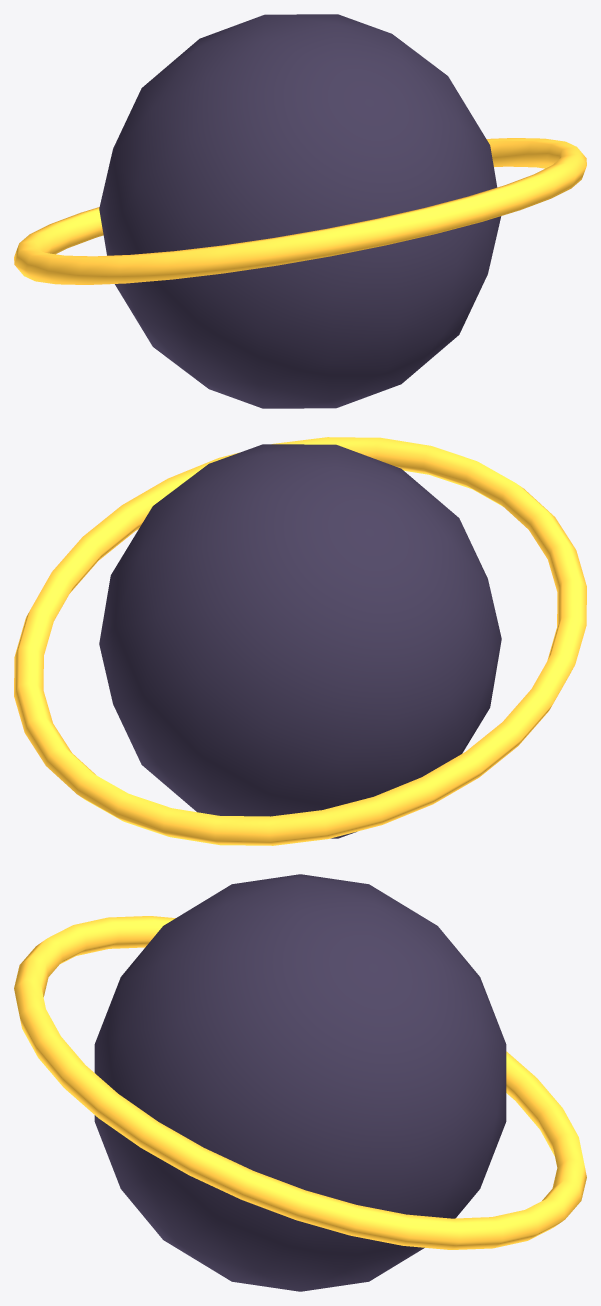
The model's file is orb-locked.glb.
3 renders of one model, top to bottom at view 1: azimuth 30°, elevation 25°; view 2: azimuth 150°, elevation 25°; view 3: azimuth 270°, elevation 25°, orthographic. The views are drawn at different scales.
Visible parts, largest first — view 1: Orb, Ring; view 2: Orb, Ring; view 3: Orb, Ring.
Part boxes in pixels (x1,y1,x2,y2): Orb: (99,14,501,408); Ring: (14,138,586,284); Orb: (99,444,501,838); Ring: (14,437,586,845); Orb: (94,874,506,1291); Ring: (14,916,586,1249).
Size of the model in its own units: 1.16 by 0.7835 by 1.09.
